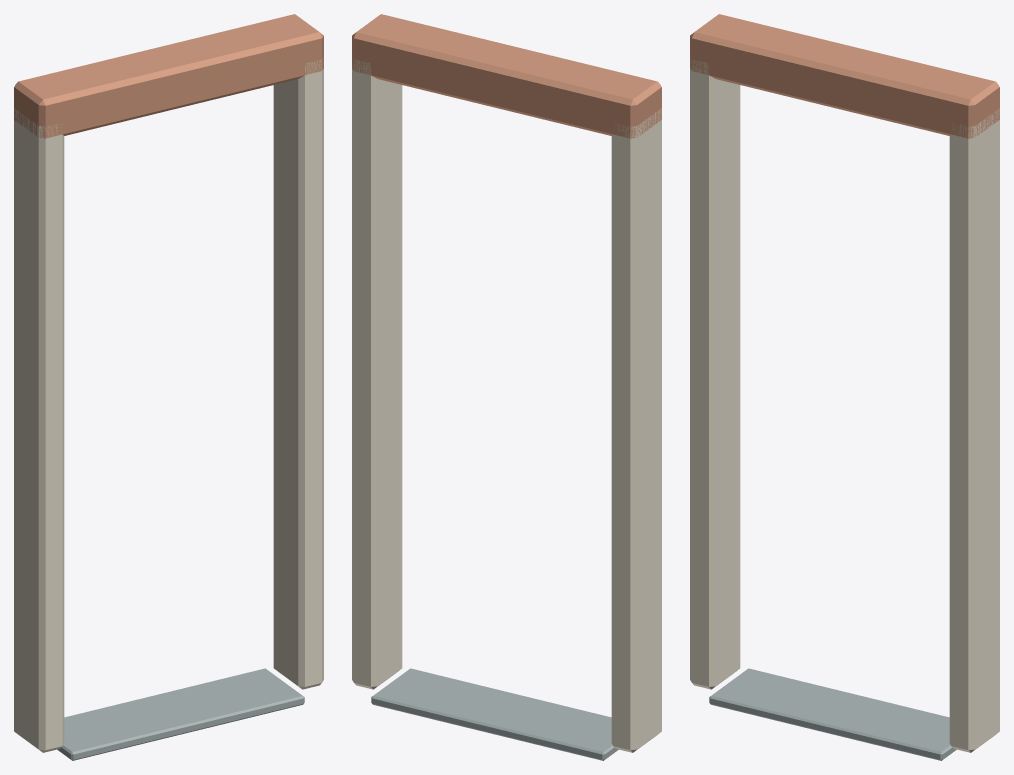
Rendered from doorway_1m.glb.
3 views of the same model, side by side, from view 1: azimuth 30°, elevation 25°; view 2: azimuth 150°, elevation 25°; view 3: azimuth 330°, elevation 25° (orthographic).
Visible parts, largest first — view 1: doorway_1m; view 2: doorway_1m; view 3: doorway_1m.
Part boxes in pixels (x1,y1,x2,y2): doorway_1m: [14, 14, 323, 760]; doorway_1m: [352, 14, 661, 760]; doorway_1m: [690, 14, 999, 760].
Size of the model in its own units: 1 by 2.22 by 0.24.
